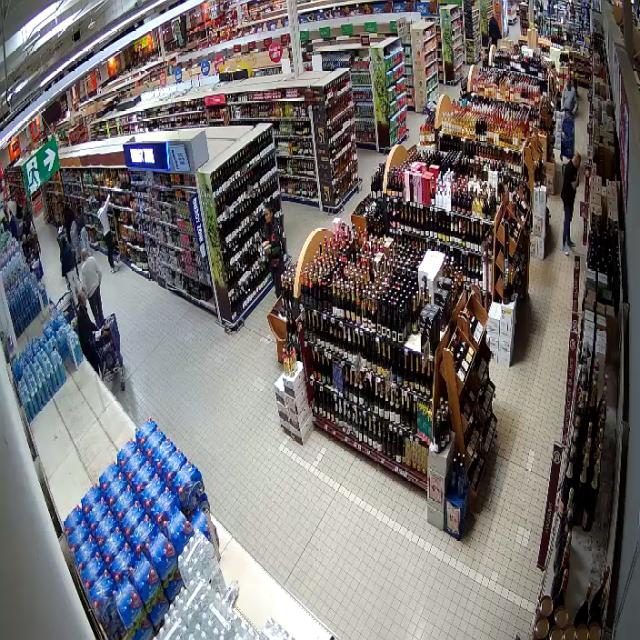article: (260, 240, 272, 251)
hands: (265, 249, 273, 256), (572, 181, 578, 189)
person: (263, 201, 284, 297), (562, 152, 580, 254), (77, 290, 99, 372)
